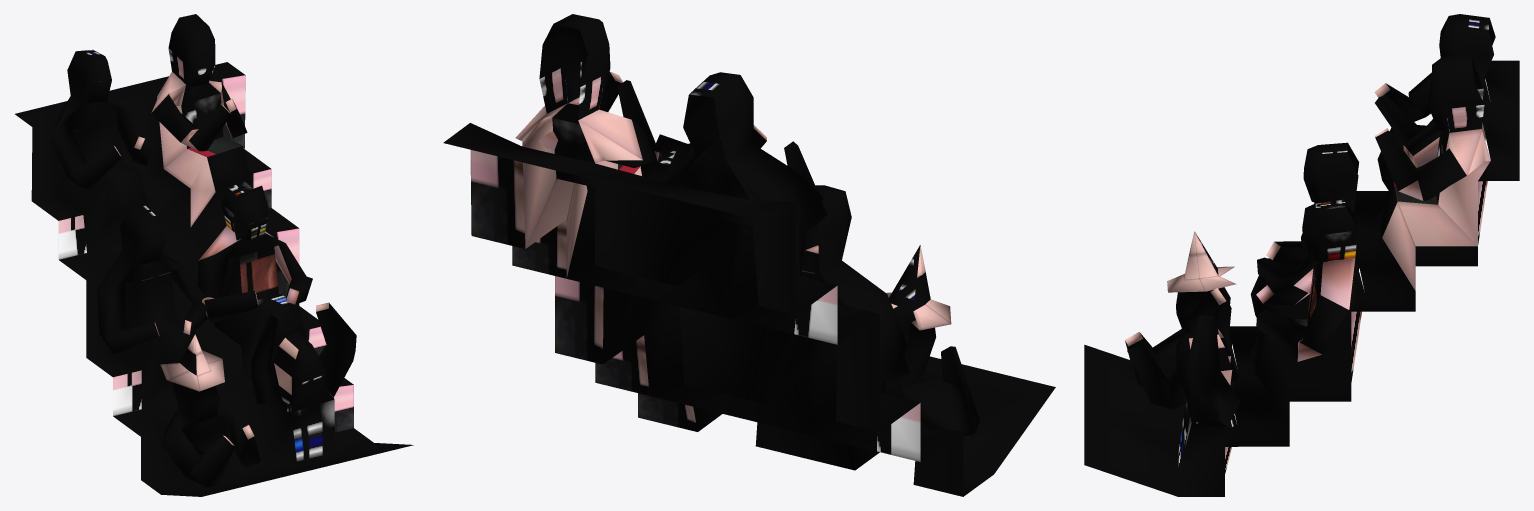
3 views of the same model, side by side, from view 1: azimuth 30°, elevation 25°; view 2: azimuth 150°, elevation 25°; view 3: azimuth 270°, elevation 25° (orthographic). The views are drawn at different scales.
Parts seen in each view (by area): view 1: T1L9M005_20; view 2: T1L9M005_20; view 3: T1L9M005_20.
Boxes of the visible parts, x1,y1,x2,y2 form: T1L9M005_20: (15,14,413,496); T1L9M005_20: (443,14,1055,496); T1L9M005_20: (1084,14,1519,496).
Bounding box in the file's own units: 0.9756 × 1.52 × 1.48.
